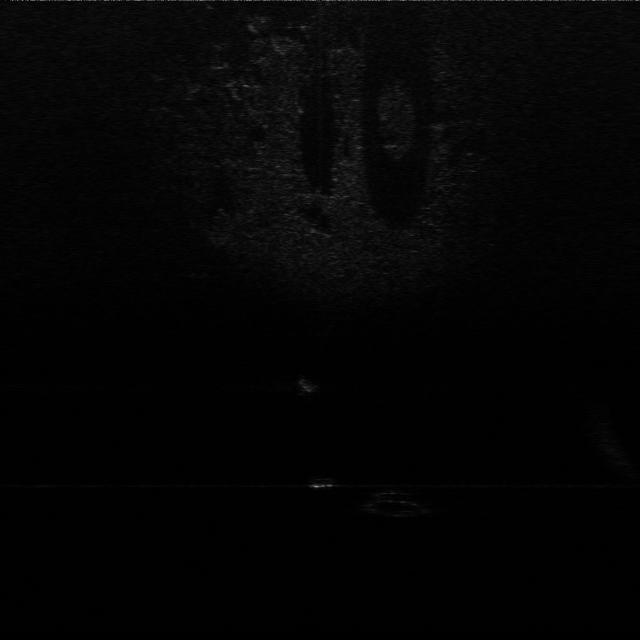cube: (303, 469, 353, 493)
tyre: (364, 484, 444, 519)
